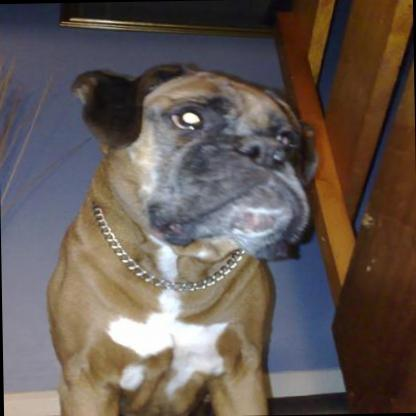boxer: (38, 59, 324, 416)
